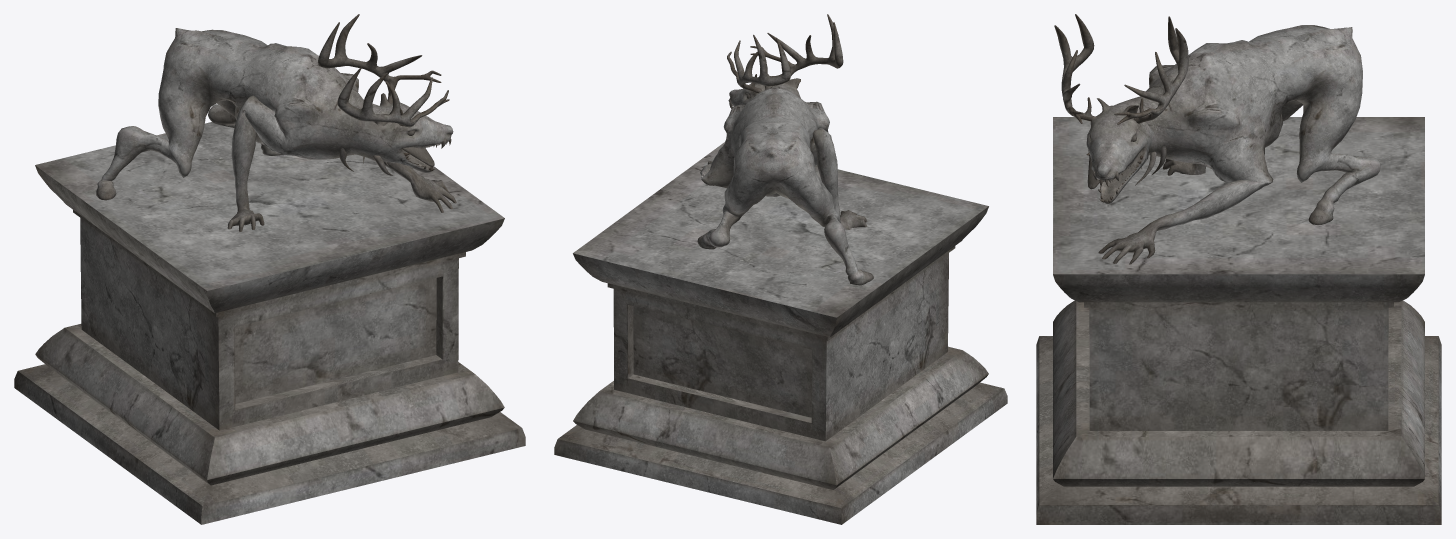
File: Statue_Calligalum.fbx
3 renders of one model, left to right at view 1: azimuth 30°, elevation 25°; view 2: azimuth 150°, elevation 25°; view 3: azimuth 270°, elevation 25°, orthographic. The views are drawn at different scales.
Visible parts, largest first — view 1: Statue_Calligalum; view 2: Statue_Calligalum; view 3: Statue_Calligalum.
Part boxes in pixels (x1,y1,x2,y2): Statue_Calligalum: (14,14,525,524); Statue_Calligalum: (554,14,1007,524); Statue_Calligalum: (1036,14,1441,524).
Bounding box in the file's own units: 271 × 328 × 271.
